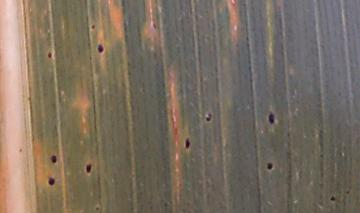tarspot: (201, 109, 215, 124), (46, 152, 61, 166), (265, 110, 277, 127), (182, 133, 193, 151), (82, 161, 95, 176), (94, 41, 106, 55), (264, 160, 275, 173), (46, 175, 57, 187), (44, 48, 54, 61), (92, 204, 103, 213), (328, 194, 336, 203), (345, 187, 352, 197), (89, 21, 96, 31)
